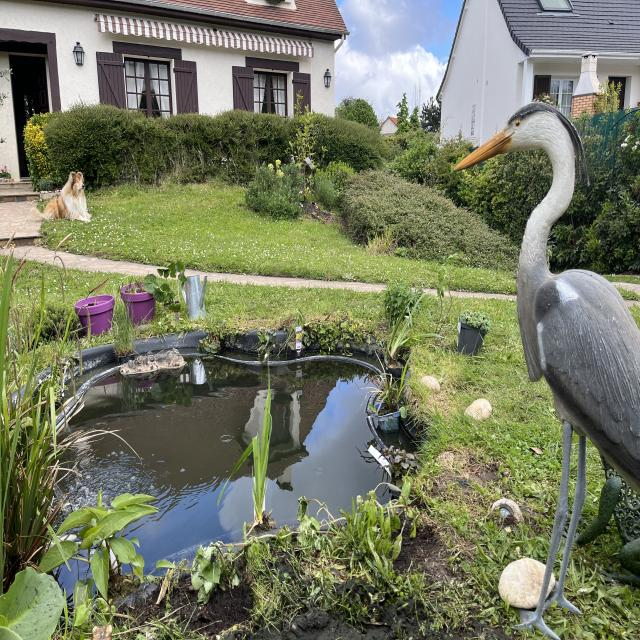Dog: (32, 157, 104, 240)
Heron: (449, 93, 640, 635)
